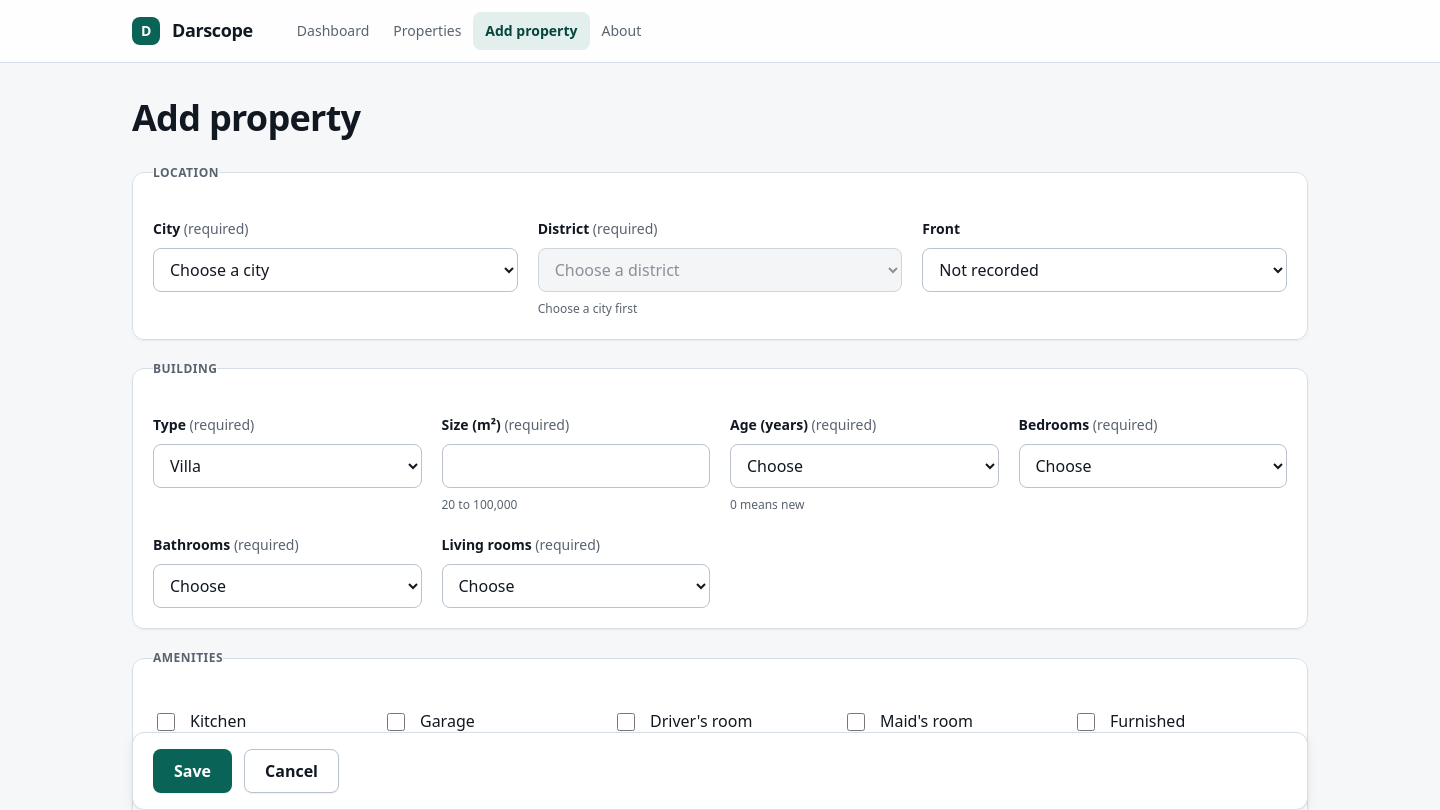
PropertyFormPage: AC-03 reject invalid input (FR-ADD-03) › takes an error away as soon as the field is corrected
Click the button "Save" at [192, 771], box [153,749,232,793]
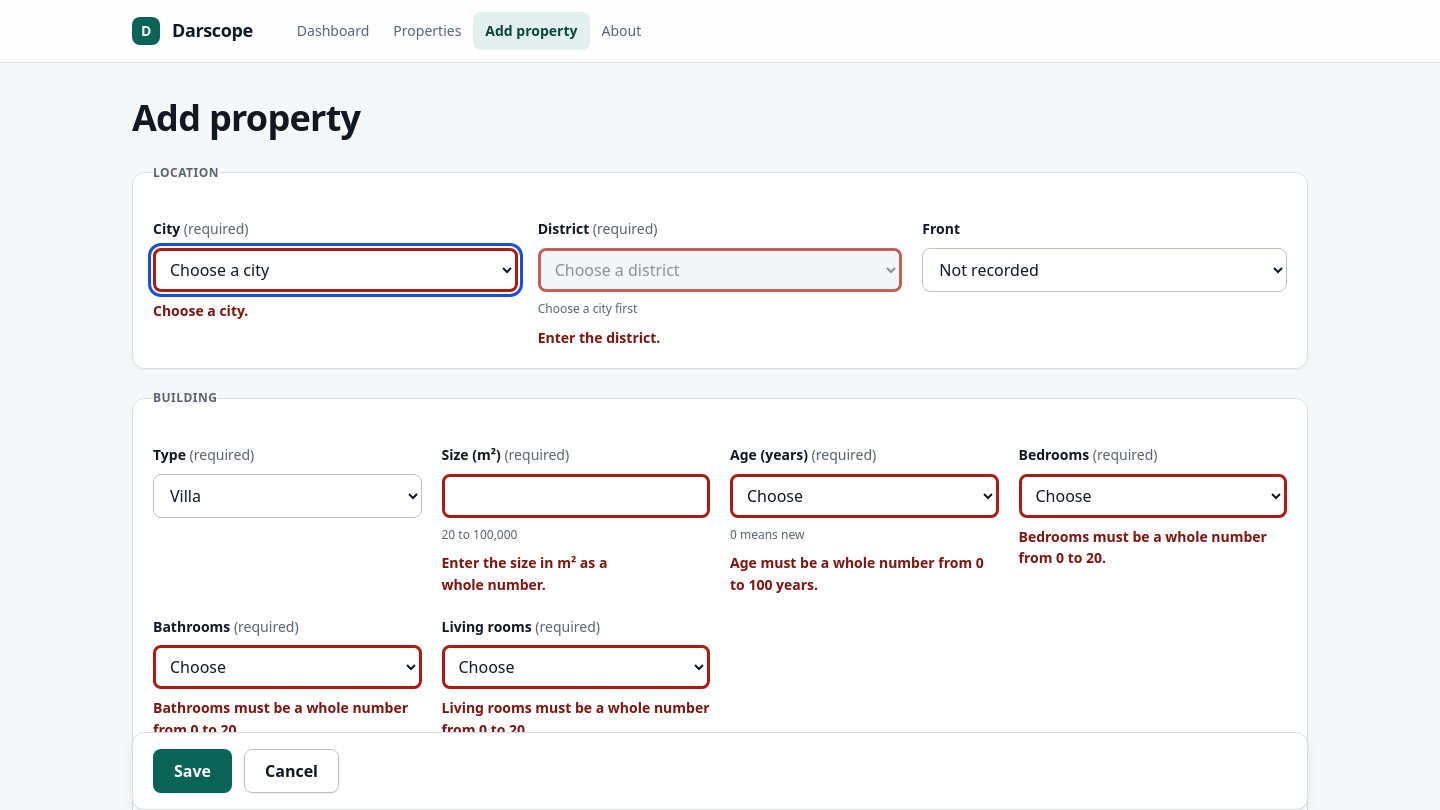
Now the text "Enter the district." is shown, box [538,328,660,347]
Select "Riyadh" in the dropdown labelled "City (required)" at [335, 270], box [153,248,518,292]
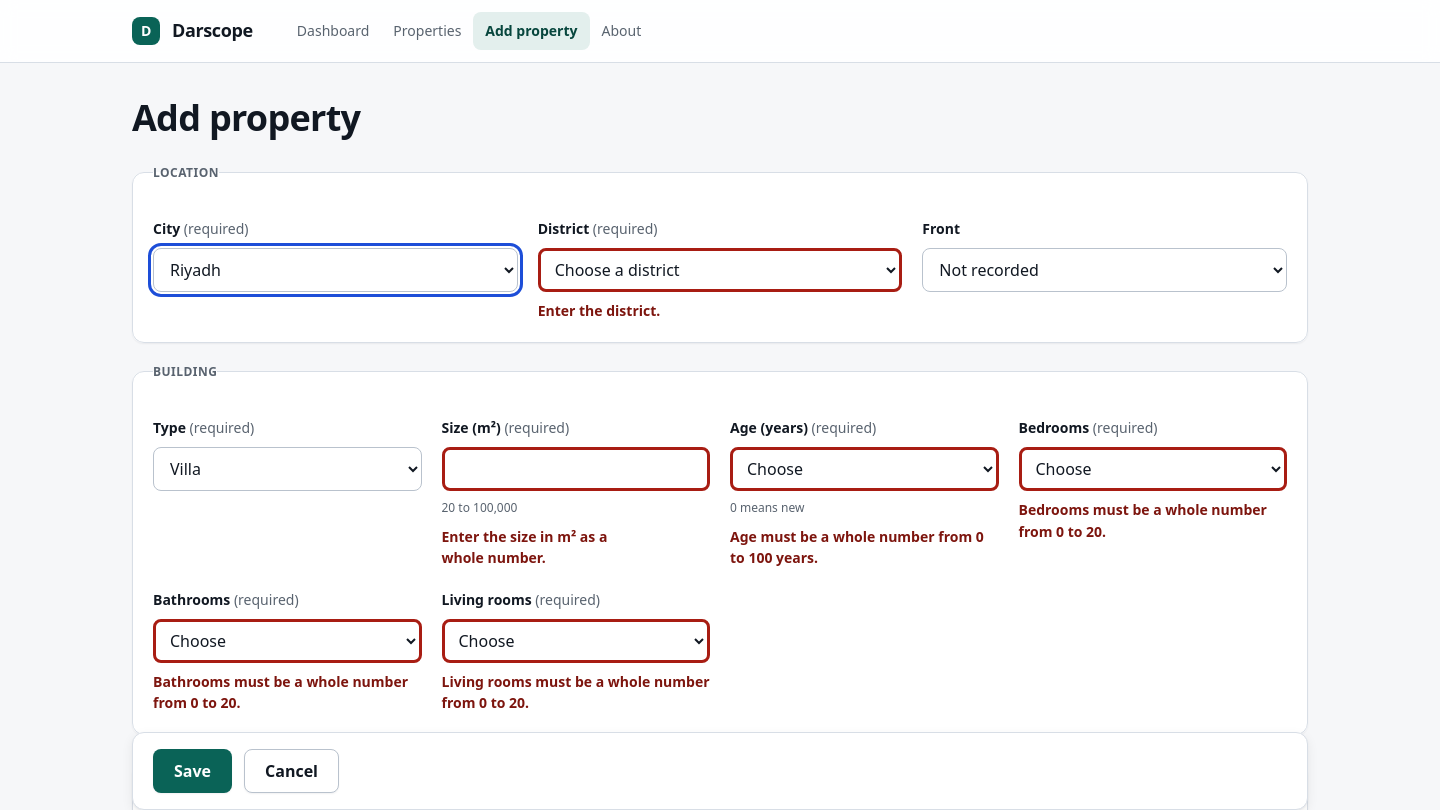
Now the text "Enter the district." is shown, box [538,301,660,320]
Select "Al Malqa" in the dropdown labelled "District (required)" at [720, 270], box [538,248,902,292]
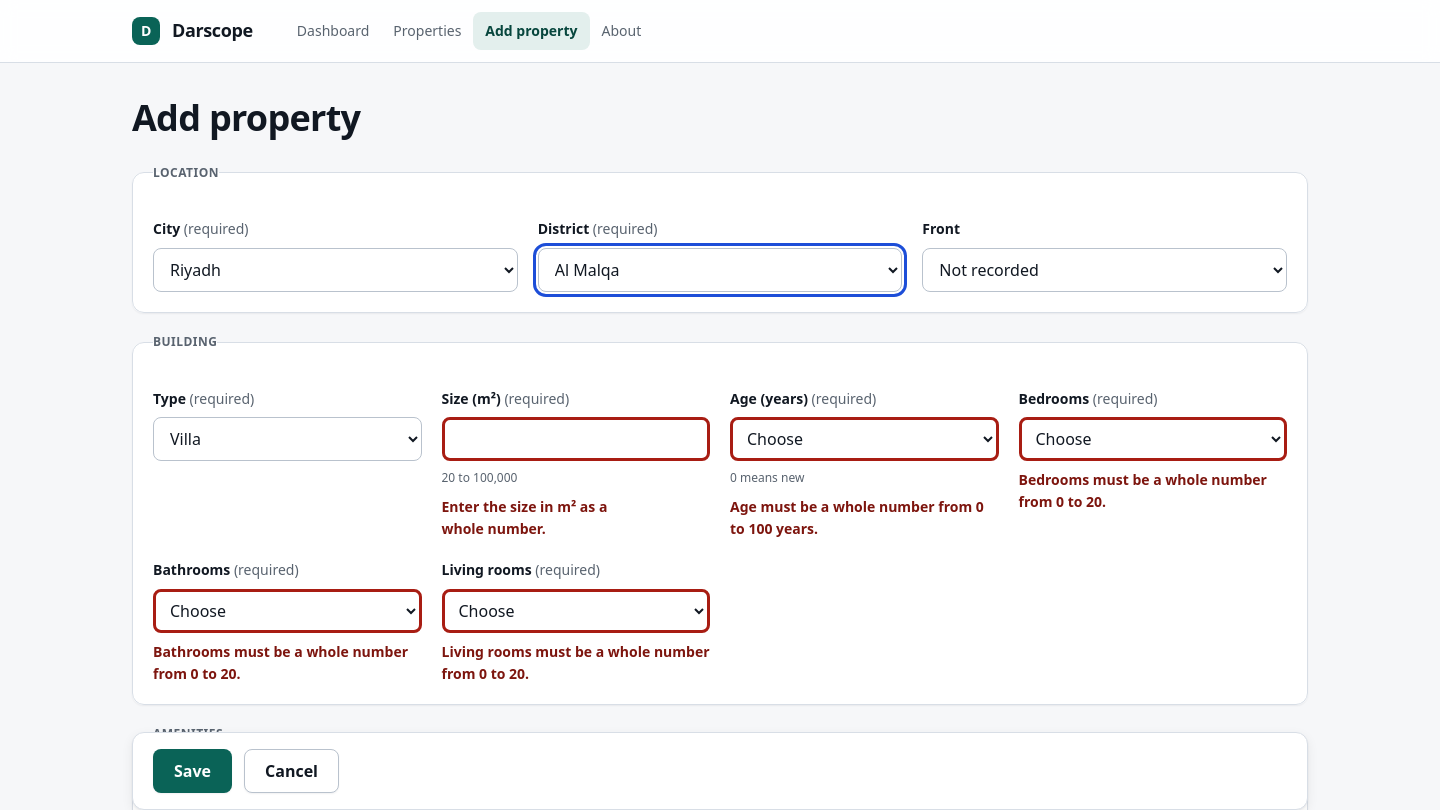
Now the text "Enter the district." is gone
